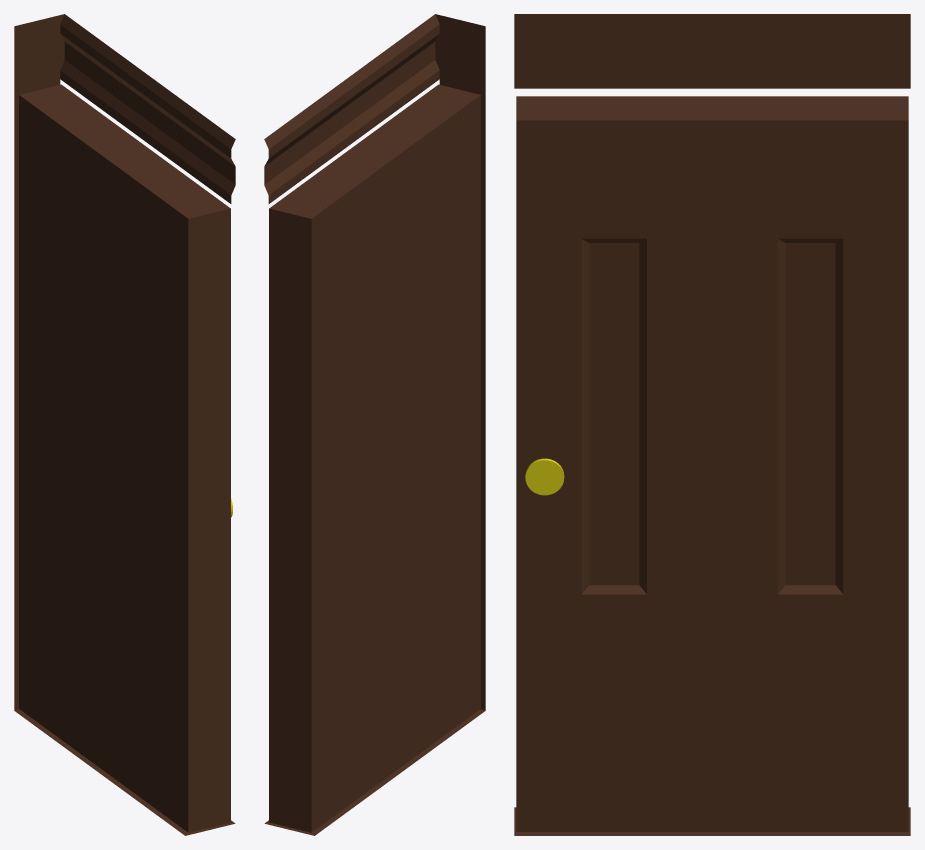
The model's file is door.glb.
3 renders of one model, left to right at view 1: azimuth 30°, elevation 25°; view 2: azimuth 150°, elevation 25°; view 3: azimuth 270°, elevation 25°, orthographic. The views are drawn at different scales.
Visible parts, largest first — view 1: Door, Doorframe; view 2: Door, Doorframe; view 3: Door, Doorframe.
Boxes of the visible parts, <box> form: Door: <box>19,84,232,832</box>; Doorframe: <box>14,14,235,835</box>; Door: <box>269,84,480,832</box>; Doorframe: <box>264,14,485,835</box>; Door: <box>516,96,908,831</box>; Doorframe: <box>514,14,910,835</box>.
Size of the model in its own units: 0.3559 by 4.41 by 2.
